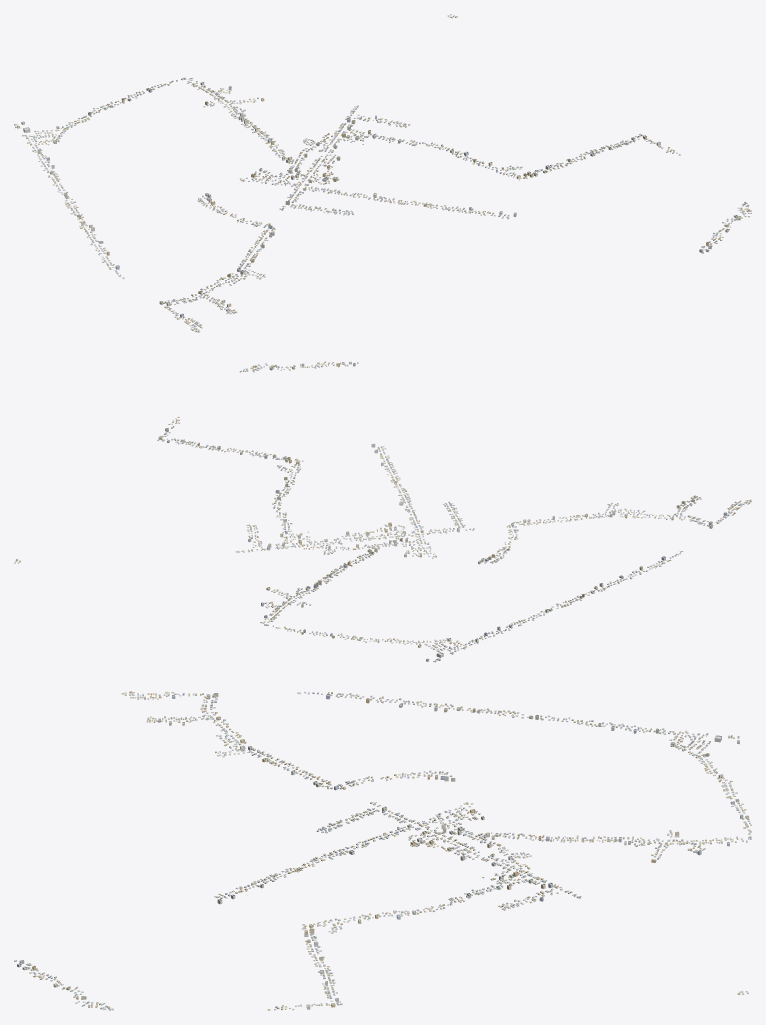
The picture shows the model from 3 angles, top to bottom: view 1: azimuth 30°, elevation 25°; view 2: azimuth 150°, elevation 25°; view 3: azimuth 270°, elevation 25°; orthographic projection. The views are drawn at different scales.
Visible parts, largest first — view 1: house, roof_zinc, apartment; view 2: house, roof_zinc, apartment; view 3: house, roof_zinc, apartment.
Boxes of the visible parts, x1=… form: house: x1=14, y1=14, x2=751, y2=332; roof_zinc: x1=14, y1=14, x2=751, y2=332; apartment: x1=21, y1=82, x2=738, y2=316; house: x1=14, y1=361, x2=751, y2=662; roof_zinc: x1=14, y1=361, x2=751, y2=661; apartment: x1=158, y1=361, x2=727, y2=661; house: x1=14, y1=691, x2=751, y2=1010; roof_zinc: x1=14, y1=691, x2=751, y2=1009; apartment: x1=17, y1=693, x2=748, y2=1009.
Bounding box in the file's own units: 1.4e+08 × 738825 × 1.37e+08.
